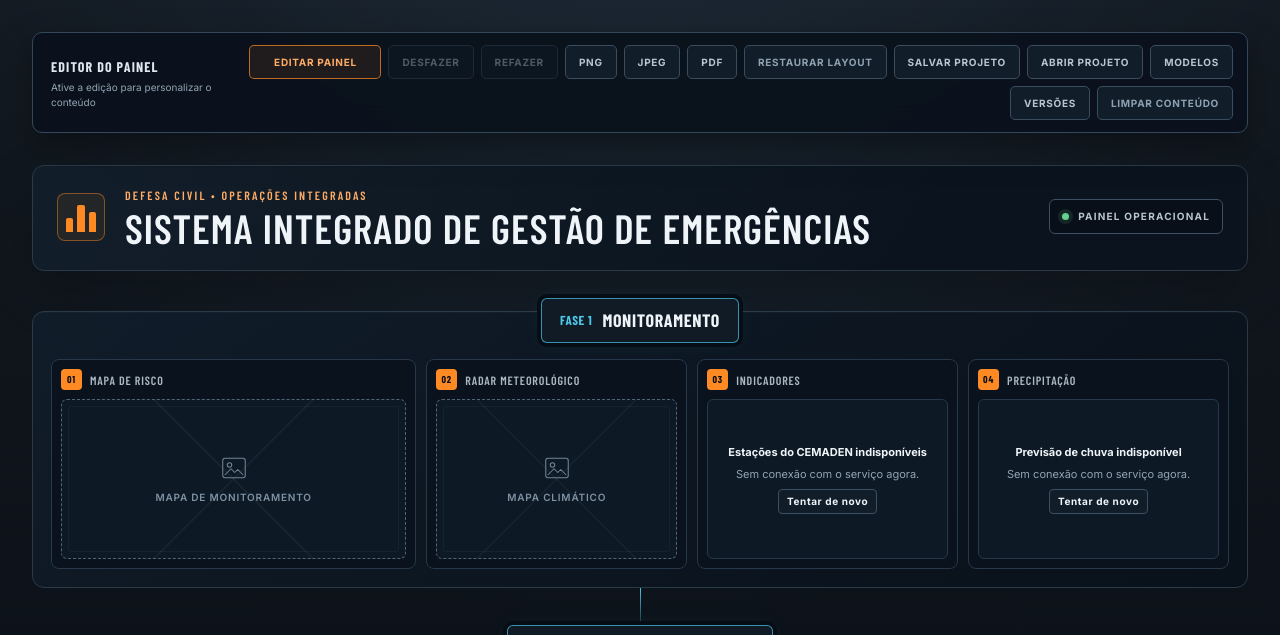
aviso de contraste › avisa quando texto e fundo ficam parecidos e some ao corrigir
This screenshot has width=1280, height=635.
Click the button "EDITAR PAINEL" at (316,62), box left=250, top=45, right=382, bottom=79
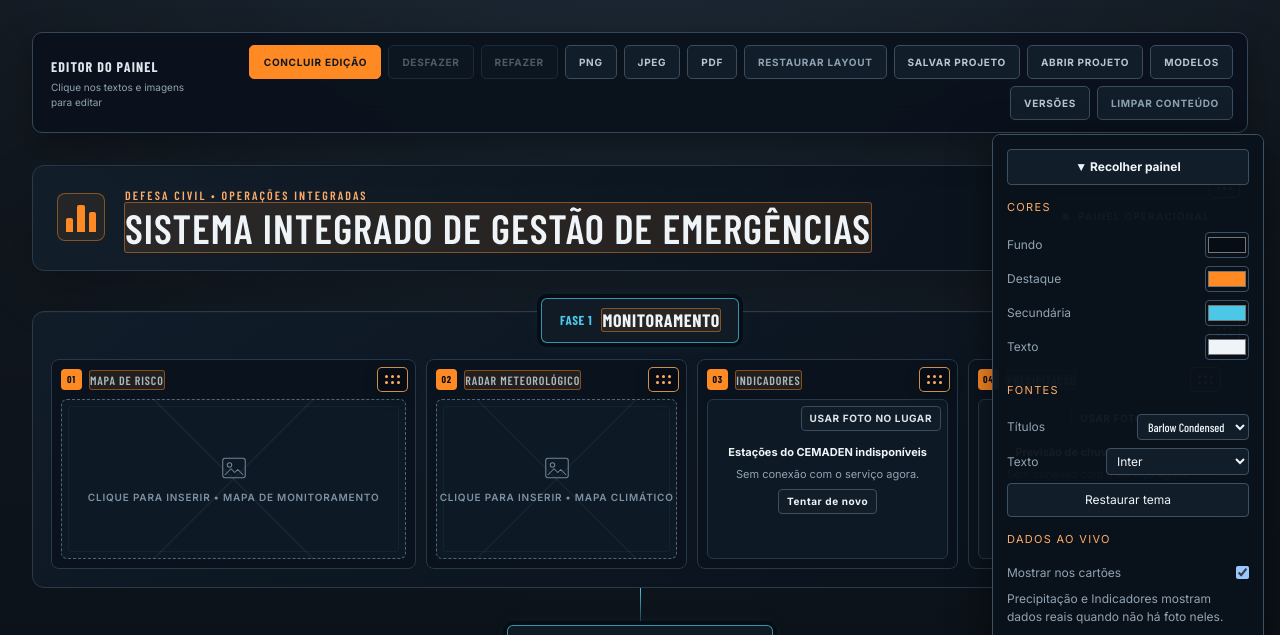
Expected: the text "contraste" is not shown
Type "#0a121c" into the colour field labelled "Texto" at (1227,346), box left=1205, top=334, right=1249, bottom=360
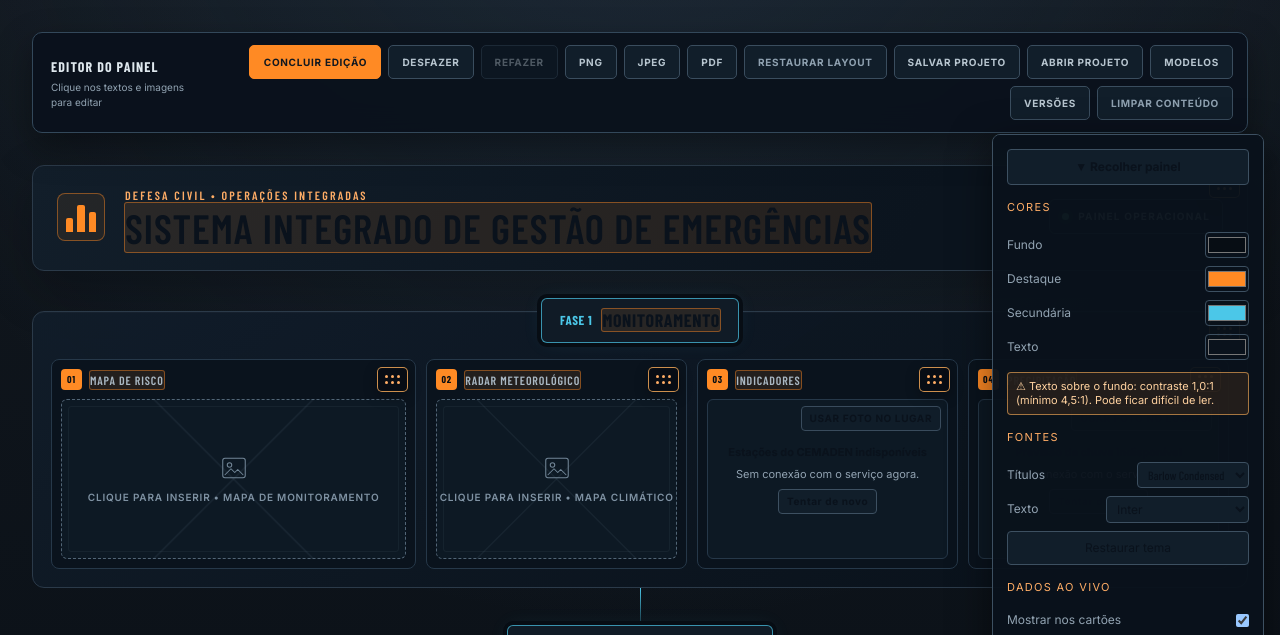
Expected: the text "Texto sobre o fundo: contraste" is shown, left=1007, top=372, right=1249, bottom=415
Type "#ffffff" into the colour field labelled "Texto" at (1227,346), box left=1205, top=334, right=1249, bottom=360
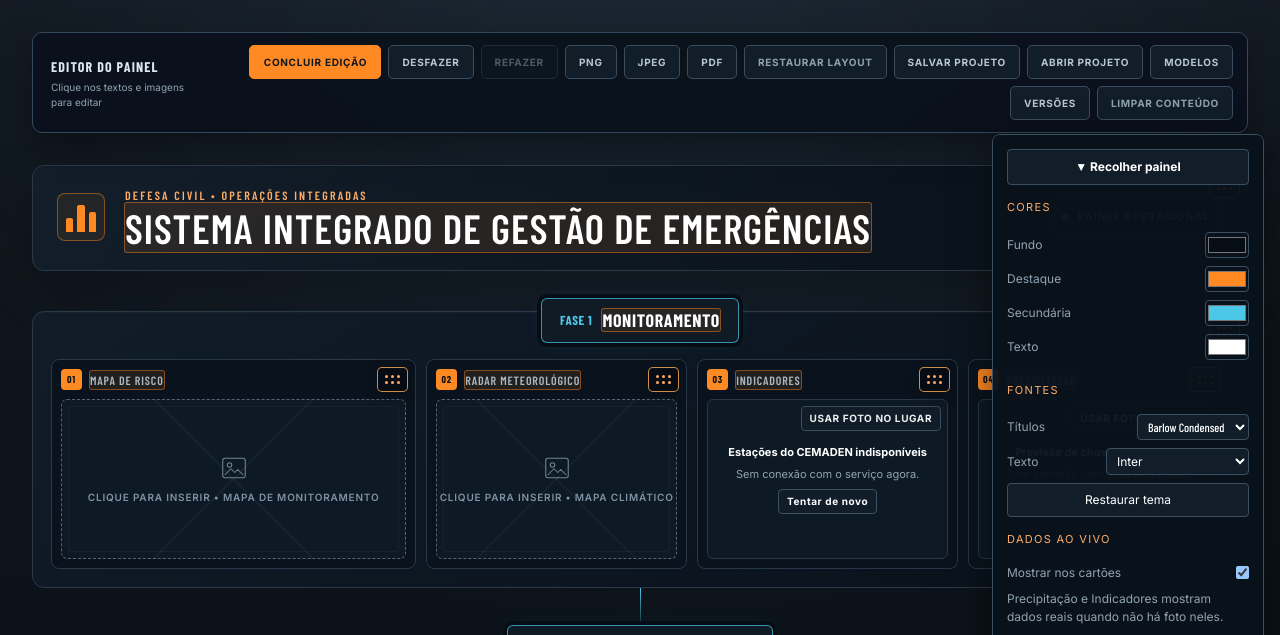
Expected: the text "contraste" is gone
